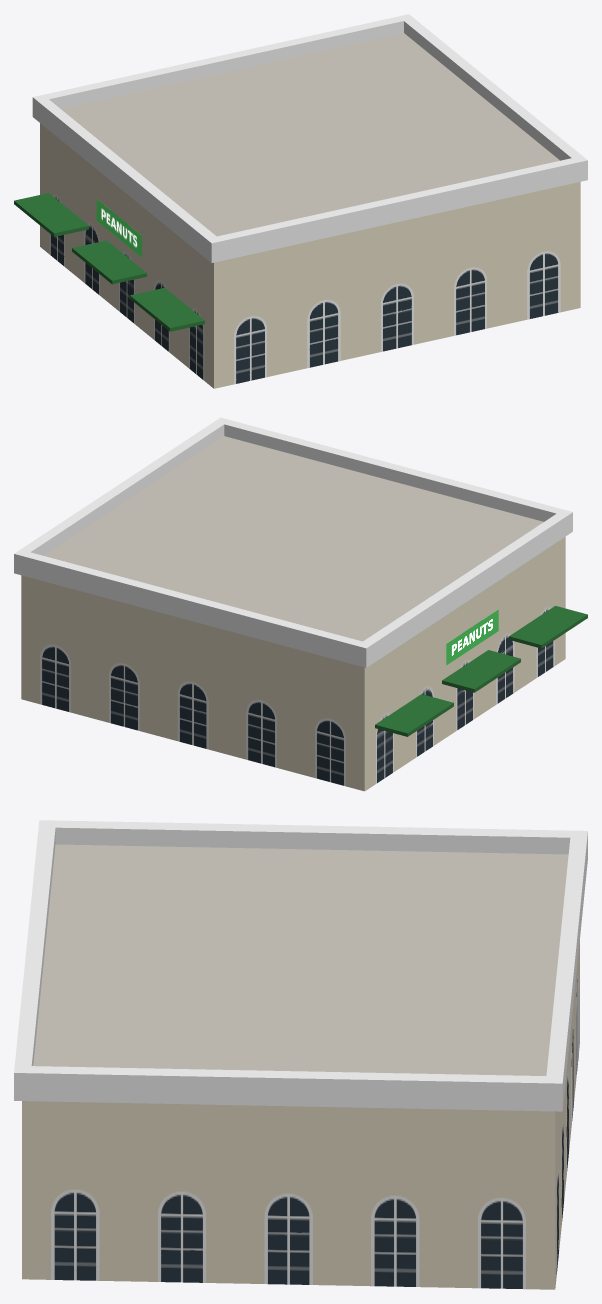
File: peanuts.glb
The picture shows the model from 3 angles, top to bottom: view 1: azimuth 30°, elevation 25°; view 2: azimuth 150°, elevation 25°; view 3: azimuth 270°, elevation 25°; orthographic projection. The views are drawn at different scales.
Visible parts, largest first — view 1: peanuts_lod0; view 2: peanuts_lod0; view 3: peanuts_lod0.
Boxes of the visible parts, x1,y1,x2,y2 form: peanuts_lod0: [14, 14, 587, 388]; peanuts_lod0: [14, 417, 587, 791]; peanuts_lod0: [14, 820, 587, 1289].
Size of what is drawn, in the model's own units: 21.72 by 7.5 by 18.62.
6 materials, 2 textured.
